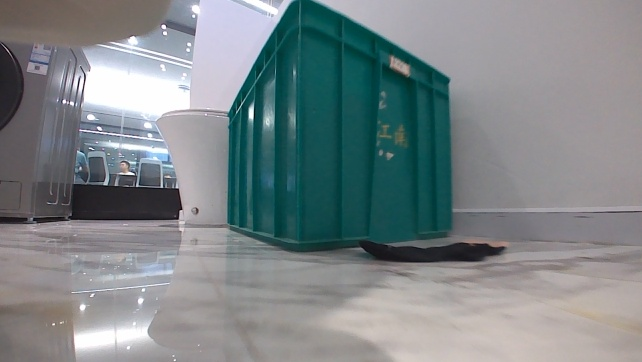socks: (357, 235, 513, 264)
toilet: (152, 105, 231, 225)
washing_machine: (0, 37, 93, 225)
